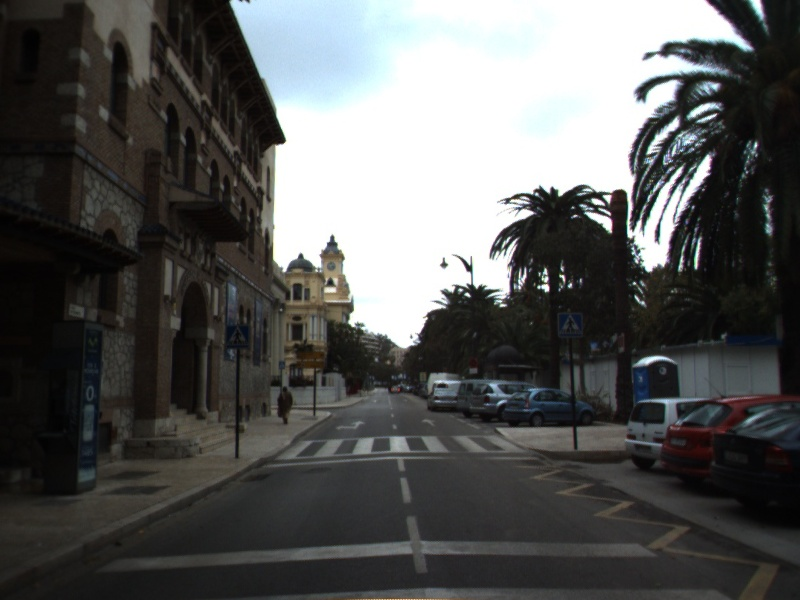STRAIGHT: (419, 416, 438, 428)
STRAIGHT_LEFT: (334, 419, 368, 432)
